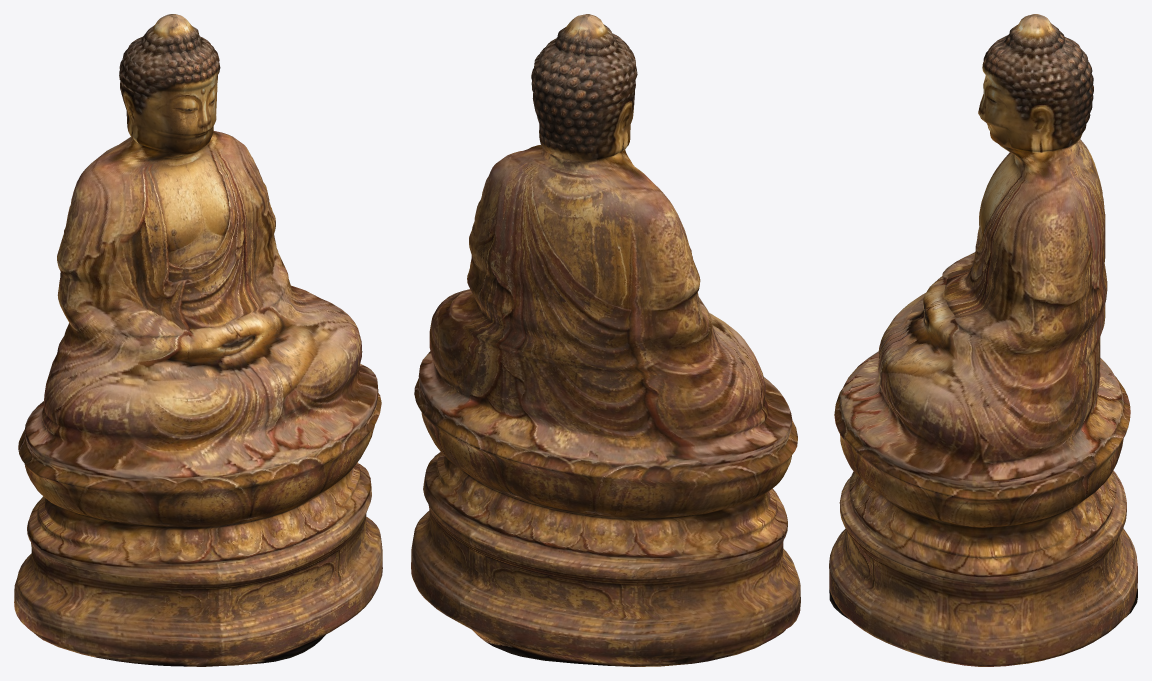
Rendered from shakyamuni.glb.
3 views of the same model, side by side, from view 1: azimuth 30°, elevation 25°; view 2: azimuth 150°, elevation 25°; view 3: azimuth 270°, elevation 25° (orthographic). The views are drawn at different scales.
Parts seen in each view (by area): view 1: shakyamuni; view 2: shakyamuni; view 3: shakyamuni.
Boxes of the visible parts, x1,y1,x2,y2 form: shakyamuni: (14, 14, 382, 666); shakyamuni: (411, 14, 800, 666); shakyamuni: (829, 14, 1137, 666).
Size of the model in its own units: 0.6256 by 1 by 0.4828.
Materials: 1 (1 with a texture image).
